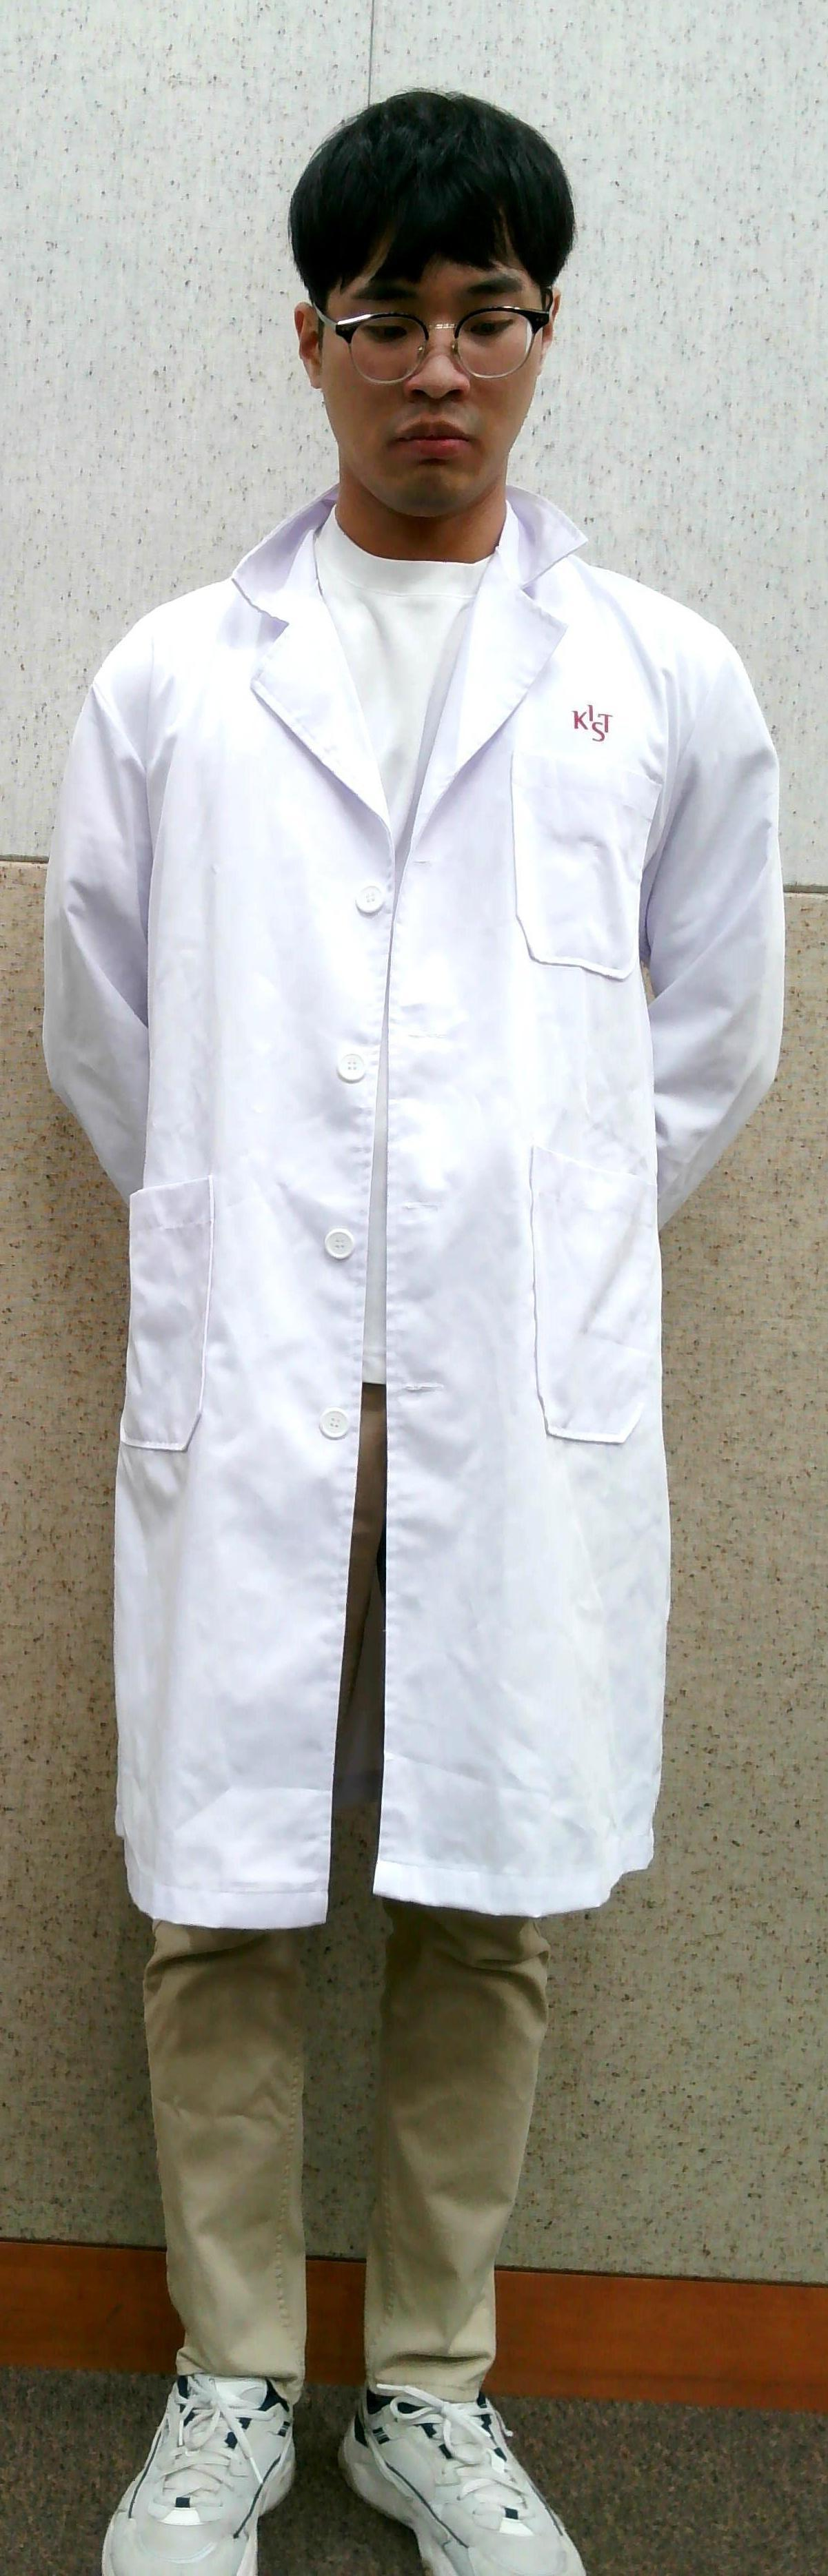lab_coat: (64, 552, 715, 1889)
